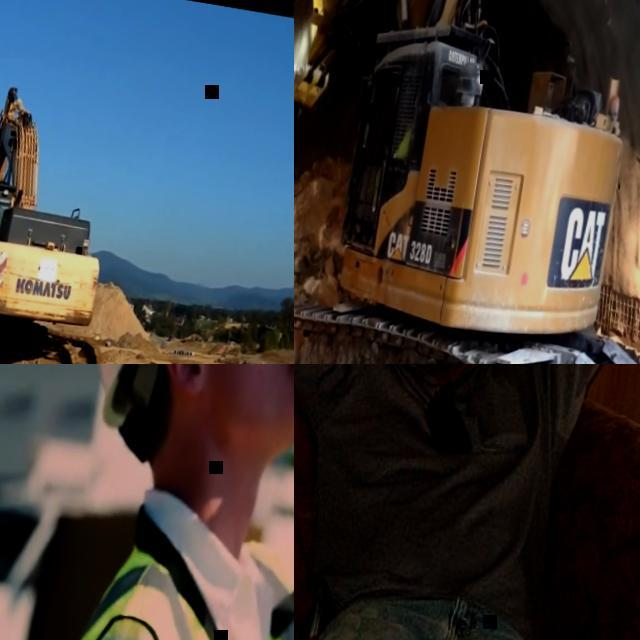helmet: (82, 364, 294, 455)
vest: (48, 494, 294, 640), (395, 121, 415, 160)
